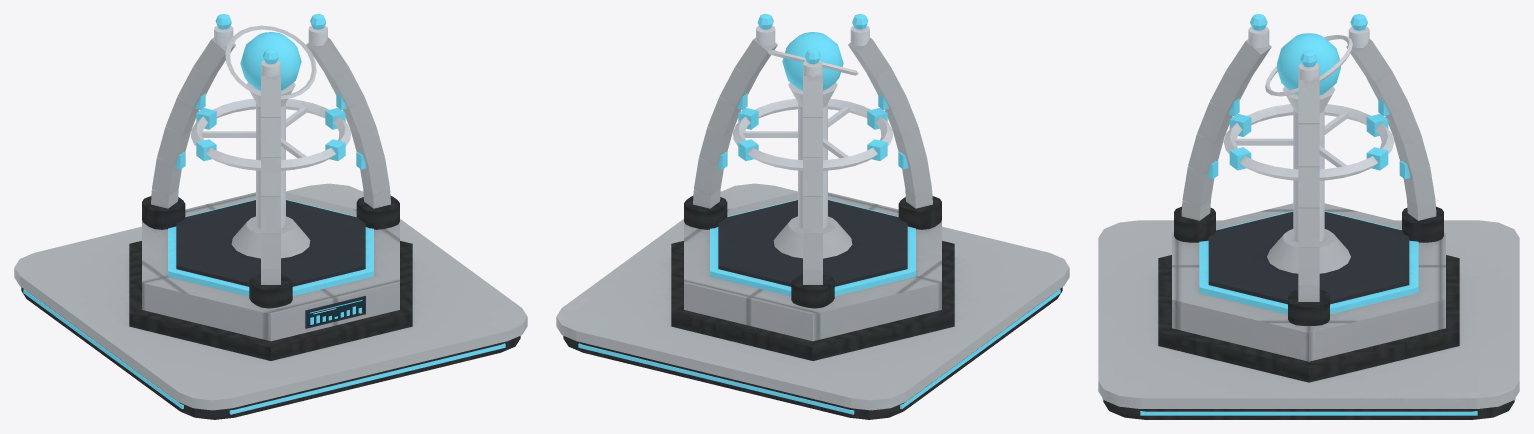
Rendered from enterprise_shield_generator.glb.
3 renders of one model, left to right at view 1: azimuth 30°, elevation 25°; view 2: azimuth 150°, elevation 25°; view 3: azimuth 270°, elevation 25°, orthographic. The views are drawn at different scales.
Parts seen in each view (by area): view 1: te_enterprise_shield_generator, move_rotor; view 2: te_enterprise_shield_generator, move_rotor; view 3: te_enterprise_shield_generator, move_rotor.
Boxes of the visible parts, x1=… form: te_enterprise_shield_generator: x1=14, y1=14, x2=527, y2=419; move_rotor: x1=191, y1=98, x2=350, y2=170; te_enterprise_shield_generator: x1=556, y1=14, x2=1069, y2=419; move_rotor: x1=733, y1=98, x2=892, y2=170; te_enterprise_shield_generator: x1=1098, y1=14, x2=1519, y2=419; move_rotor: x1=1223, y1=104, x2=1394, y2=180.
Size of the model in its own units: 0.8 by 0.642 by 0.8.
Materials: 1 (1 with a texture image).
